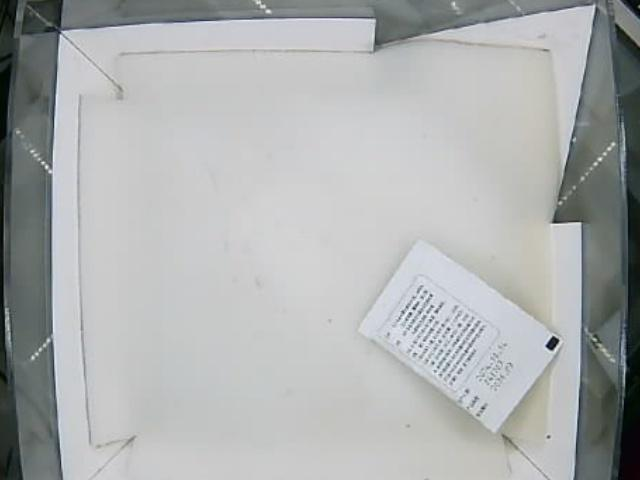Medicine: (359, 240, 562, 435)
